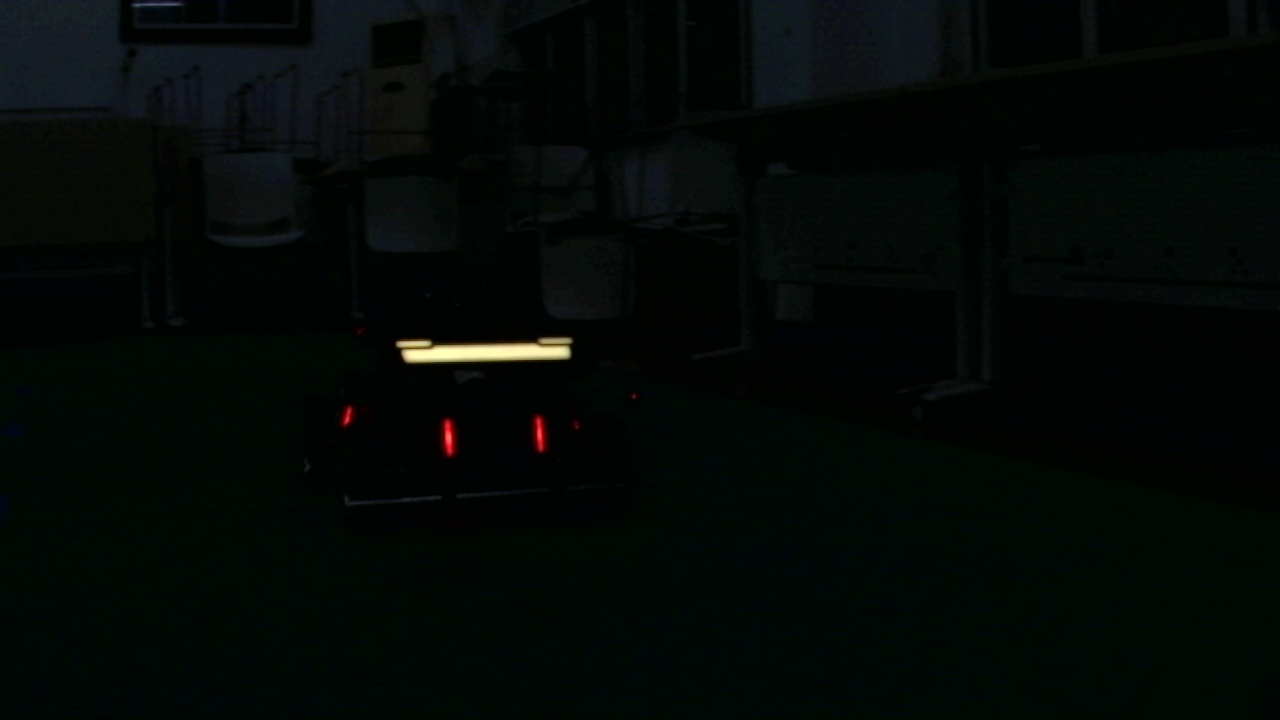lamp: (440, 411, 458, 459), (533, 410, 546, 455)
pair1: (441, 419, 547, 454)
